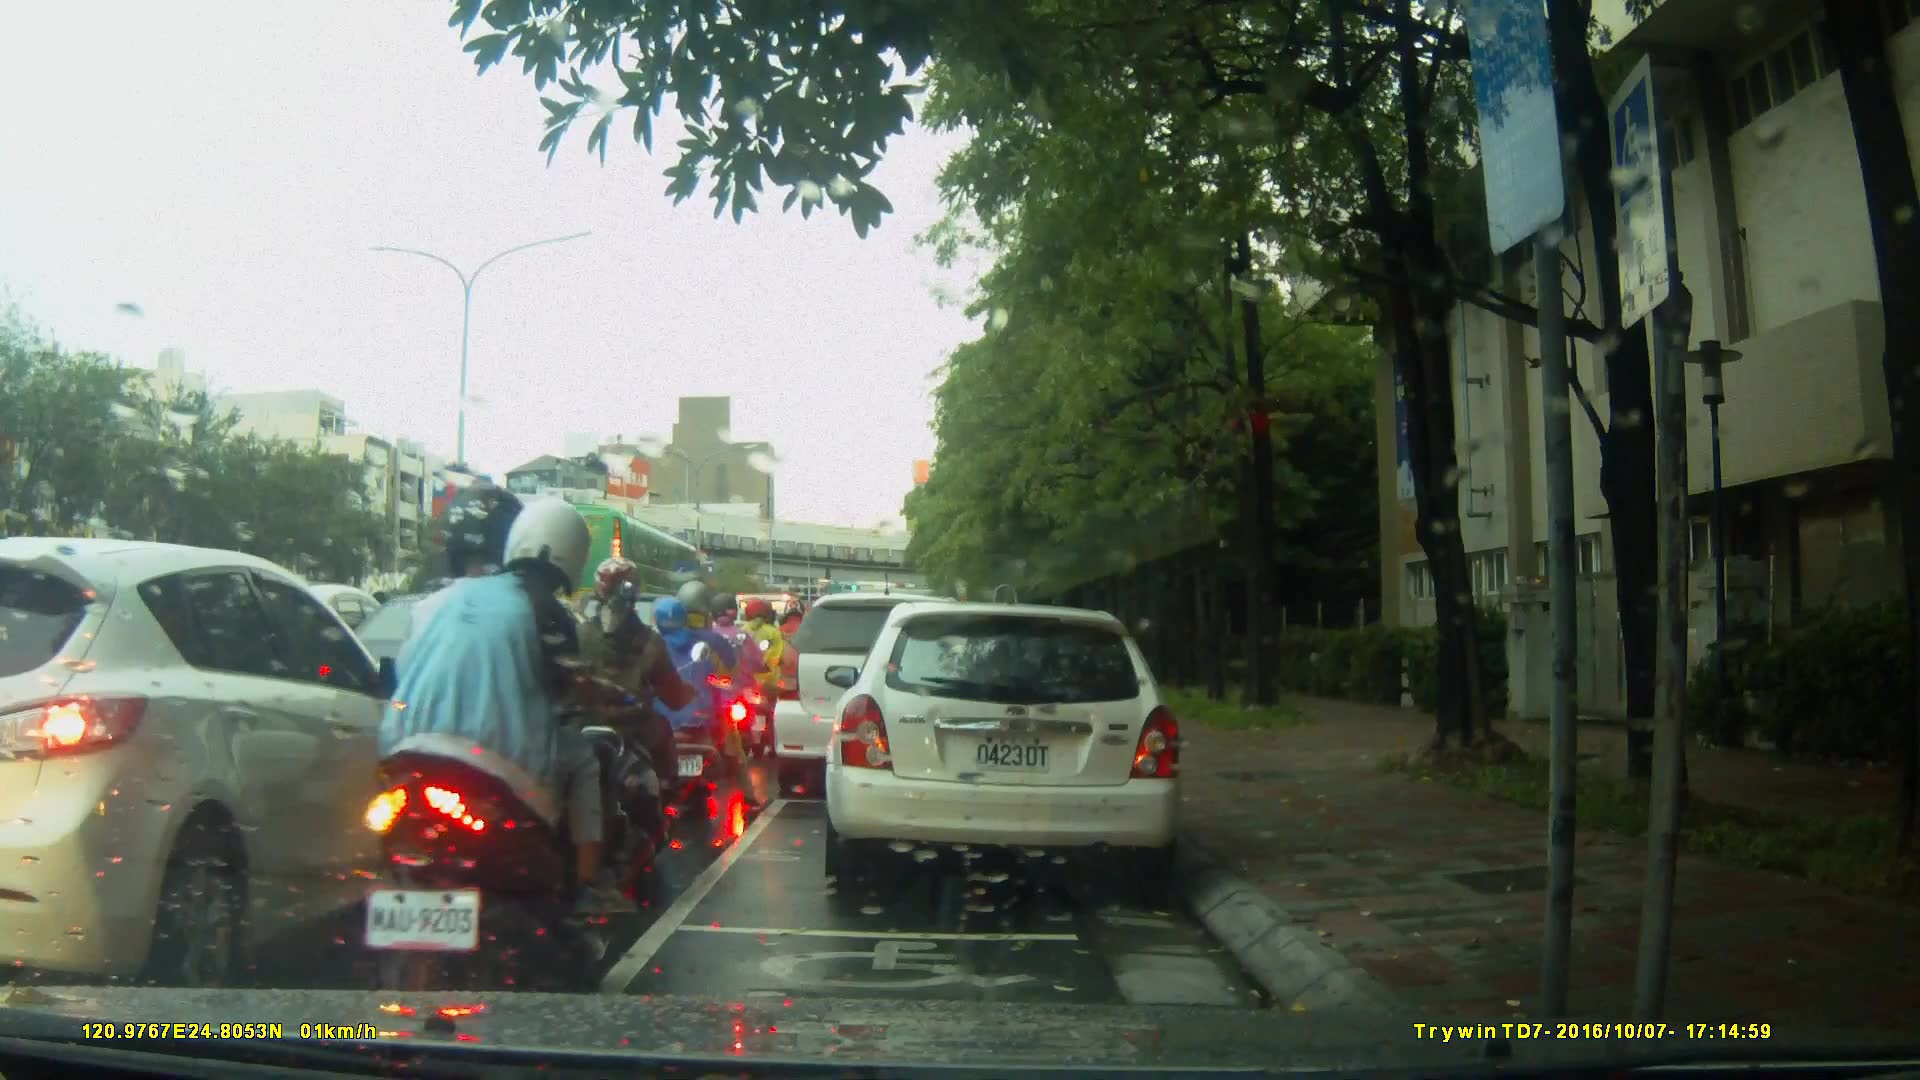rider: (366, 491, 638, 1007), (565, 556, 712, 884), (645, 585, 730, 812), (697, 598, 770, 764), (735, 598, 797, 752), (776, 596, 818, 718)
vehicle: (4, 535, 465, 988), (831, 592, 1196, 897), (312, 589, 629, 776), (771, 590, 999, 803), (501, 503, 709, 636)
